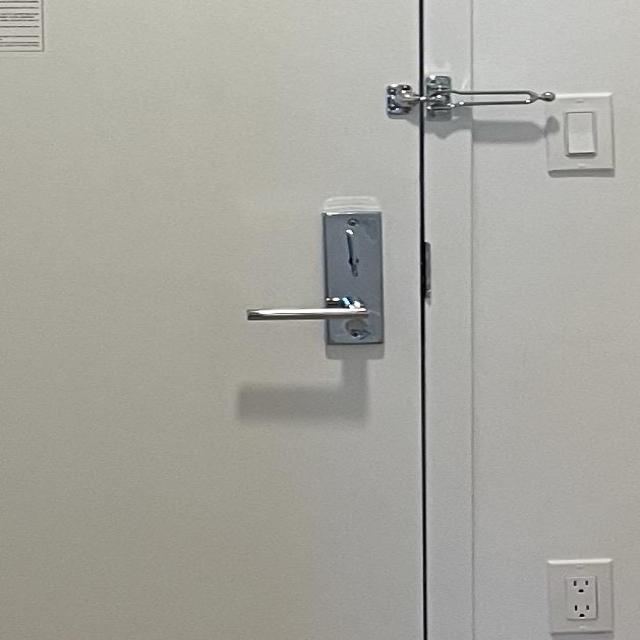door_handle: (233, 289, 391, 341)
